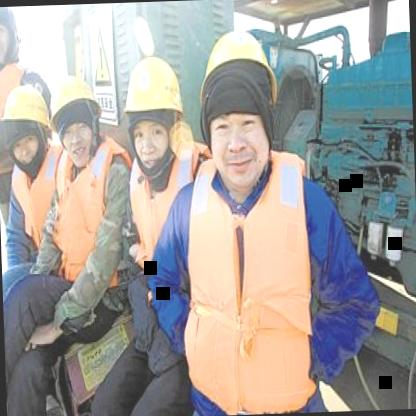helmet: (199, 25, 285, 212), (118, 48, 187, 177), (32, 68, 91, 174), (0, 70, 51, 184)
